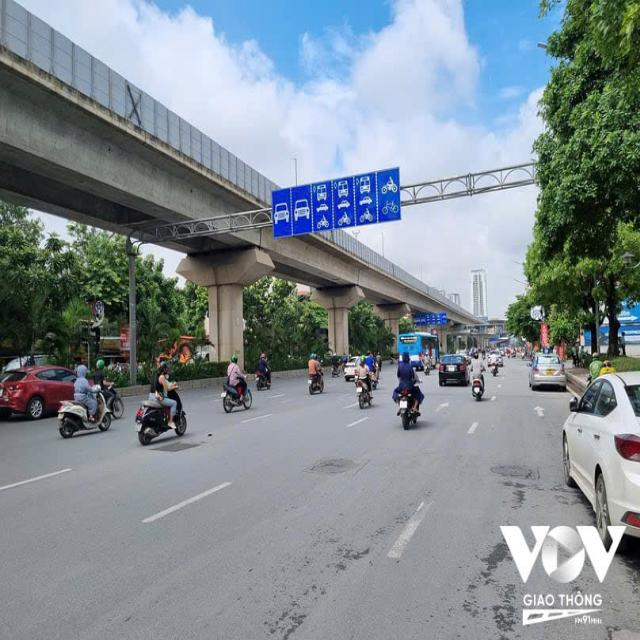car: (563, 367, 640, 559), (526, 341, 571, 396), (436, 342, 471, 394)
motobyte: (130, 356, 193, 449), (50, 362, 116, 441), (391, 346, 428, 436), (215, 348, 257, 420), (350, 350, 379, 414), (464, 340, 490, 406), (305, 345, 327, 403), (253, 342, 277, 394)
